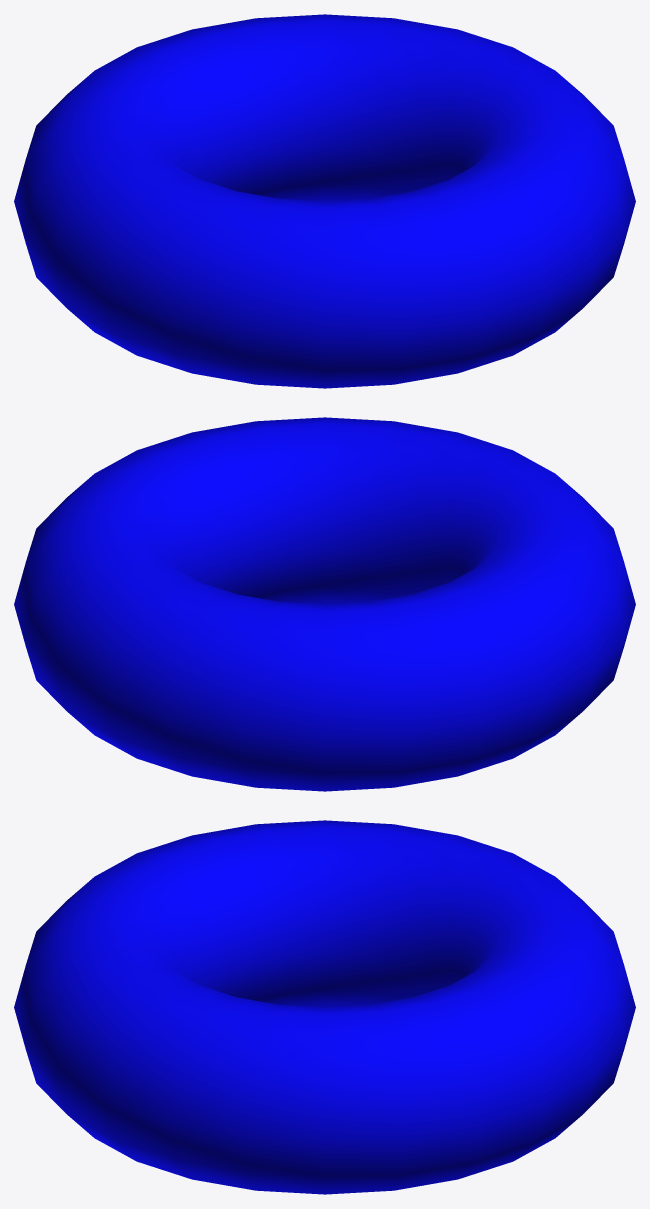
File: Toroide3.obj
3 renders of one model, top to bottom at view 1: azimuth 30°, elevation 25°; view 2: azimuth 150°, elevation 25°; view 3: azimuth 270°, elevation 25°, orthographic.
Visible parts, largest first — view 1: Torus003; view 2: Torus003; view 3: Torus003.
Part boxes in pixels (x1,y1,x2,y2): Torus003: (14, 14, 635, 388); Torus003: (14, 417, 635, 791); Torus003: (14, 820, 635, 1194).
Bounding box in the file's own units: 101 × 30.91 × 101.
Materials: 1 (1 with a texture image).
